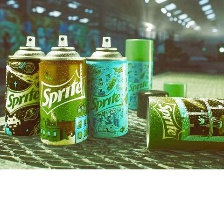aerosol_cans: (35, 32, 90, 150), (2, 32, 52, 139), (80, 33, 129, 140), (140, 91, 224, 153), (120, 35, 158, 111)
